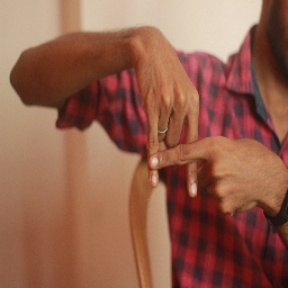H: (115, 88, 226, 210)
